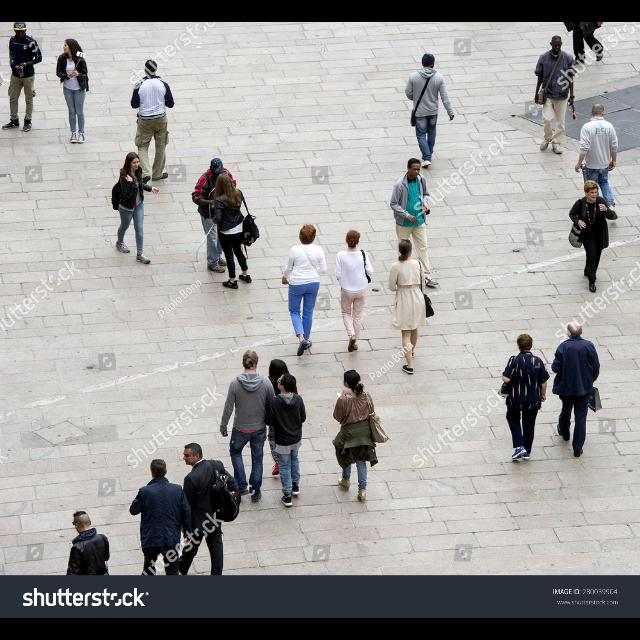head: (182, 442, 204, 466), (72, 512, 91, 534), (516, 334, 534, 354), (150, 460, 168, 480), (343, 370, 361, 388), (278, 374, 296, 392), (300, 225, 316, 245), (406, 159, 422, 179), (242, 351, 258, 371), (566, 322, 584, 338), (270, 360, 286, 378), (209, 158, 223, 178), (584, 181, 598, 201), (62, 38, 78, 54), (398, 240, 414, 256), (126, 152, 140, 170), (217, 174, 231, 192), (144, 60, 158, 76), (550, 36, 564, 52), (590, 103, 606, 117), (346, 232, 360, 246), (422, 56, 436, 70), (14, 22, 26, 38), (575, 22, 589, 28)
person: (175, 441, 243, 597), (129, 459, 195, 617), (219, 350, 277, 504), (332, 370, 394, 504), (550, 320, 604, 460), (497, 334, 551, 462), (388, 238, 436, 376), (390, 158, 440, 288), (282, 225, 328, 358), (404, 52, 456, 168), (264, 372, 308, 508), (210, 172, 260, 290), (130, 60, 176, 188), (568, 180, 618, 294), (111, 152, 161, 264), (191, 158, 239, 274), (574, 103, 620, 221), (534, 35, 578, 155), (334, 229, 374, 353), (1, 22, 44, 134), (262, 358, 300, 478), (56, 38, 90, 146), (560, 22, 606, 68)
